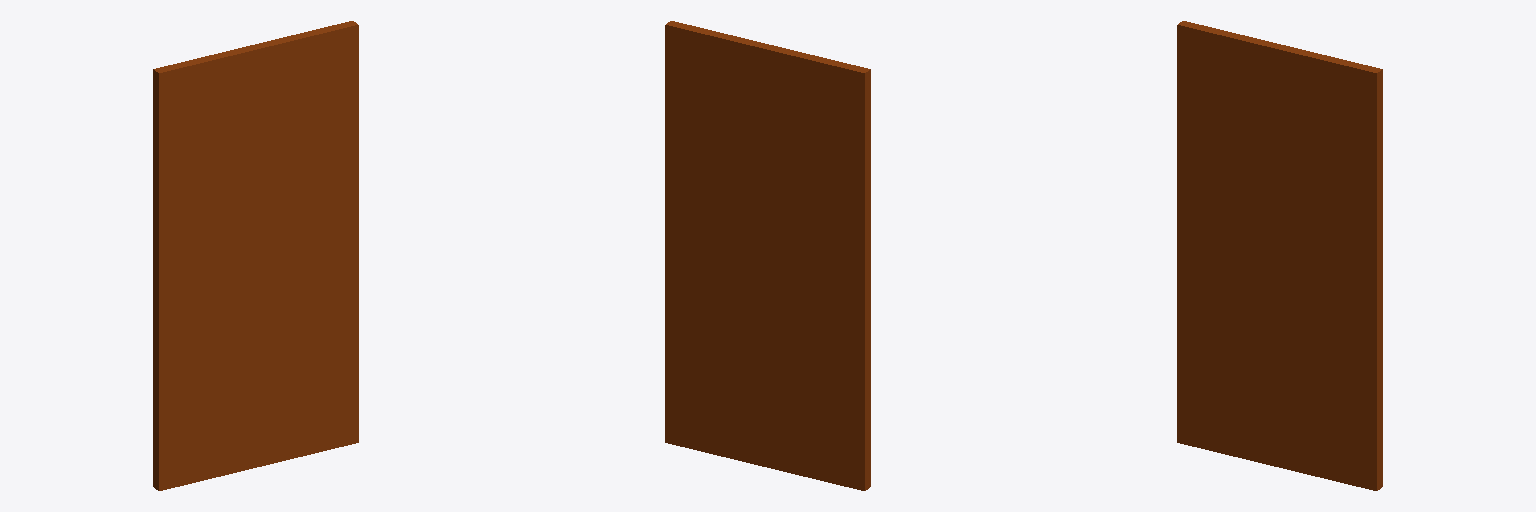
robot.urdf — door_slide:
<?xml version="1.0"?>
<robot name="door_slide">
  <link name="frame">
    <inertial>
      <mass value="0.0"/>
      <inertia ixx="0" ixy="0" ixz="0" iyy="0" iyz="0" izz="0"/>
    </inertial>
  </link>
  <joint name="slide" type="prismatic">
    <parent link="frame"/>
    <child link="panel"/>
    <origin xyz="0 0 0"/>
    <axis xyz="1 0 0"/>
    <limit lower="0" upper="1.2" effort="10" velocity="1.5"/>
  </joint>
  <link name="panel">
    <visual>
      <origin xyz="0 0 1.0"/>
      <geometry><box size="1.0 0.05 2.0"/></geometry>
      <material name="brown"><color rgba="0.6 0.3 0.1 1.0"/></material>
    </visual>
    <collision>
      <origin xyz="0 0 1.0"/>
      <geometry><box size="1.0 0.05 2.0"/></geometry>
    </collision>
    <inertial>
      <mass value="0.0"/>
      <inertia ixx="0" ixy="0" ixz="0" iyy="0" iyz="0" izz="0"/>
    </inertial>
  </link>
</robot>

--- Facts derived from the render (not from the file) ---
The picture shows the robot from 3 angles, left to right: view 1: azimuth 30°, elevation 25°; view 2: azimuth 150°, elevation 25°; view 3: azimuth 330°, elevation 25°; orthographic projection.
Model door_slide with 2 links and 1 joints (1 prismatic), rooted at frame, posed every joint at zero.
Links seen in each view (by area): view 1: panel; view 2: panel; view 3: panel.
Boxes of the visible links, <box> form: panel: <box>153,21,358,490</box>; panel: <box>665,21,870,490</box>; panel: <box>1177,21,1382,490</box>.
Size in the robot's own frame: 1 by 0.05 by 2 metres.
Geometry: primitives only (box / cylinder / sphere), no mesh files.
